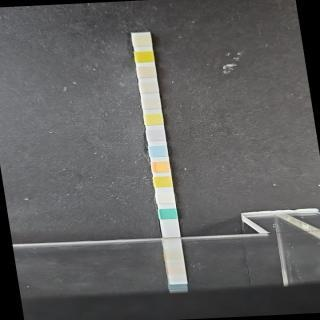mark: (147, 128, 165, 142), (137, 66, 157, 78), (134, 34, 152, 47), (135, 50, 154, 62), (150, 144, 168, 156), (140, 81, 158, 93), (155, 176, 172, 188), (153, 160, 170, 172), (143, 98, 160, 110), (145, 113, 163, 124), (160, 209, 177, 220), (158, 193, 175, 203)
